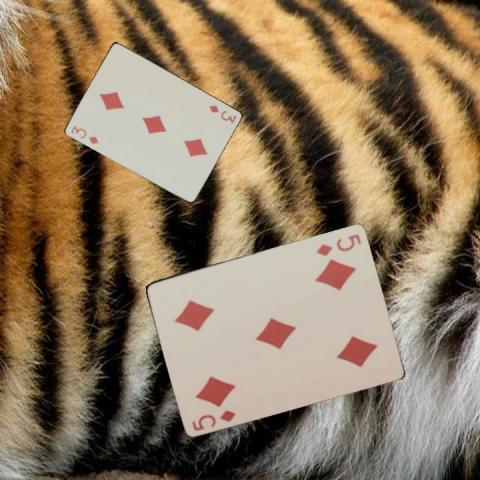3d: (67, 122, 100, 145), (206, 102, 237, 125)
5d: (312, 231, 362, 257), (189, 407, 237, 432)
